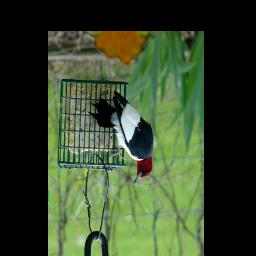Woodpecker: (88, 90, 153, 184)
